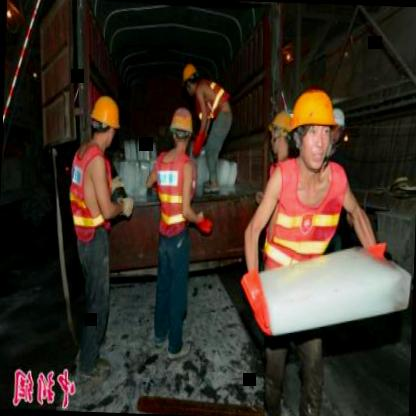helmet: (290, 84, 346, 172), (87, 92, 123, 156), (265, 102, 293, 164), (170, 104, 196, 149), (324, 107, 348, 150), (180, 60, 200, 100)
